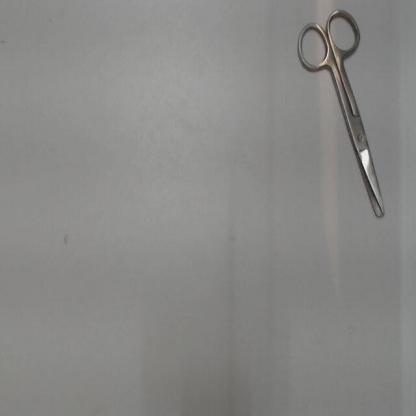Dressing Scissors: (292, 1, 394, 230)
